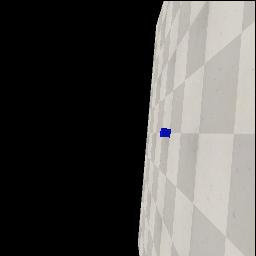box: (160, 128, 171, 138)
